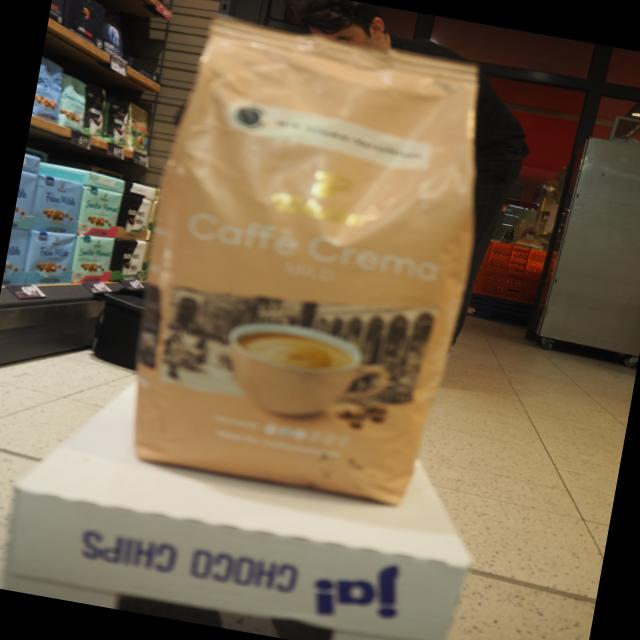CC Mild: (114, 11, 507, 510)
